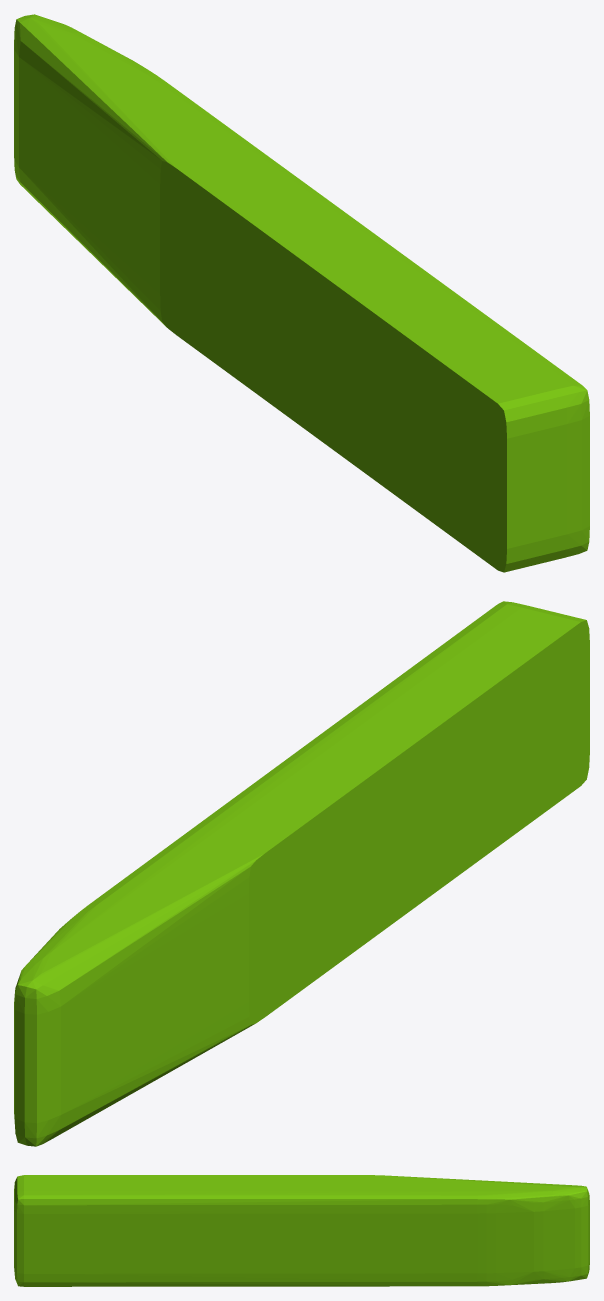
File: right_hip_pitch_link_part_4.obj
3 views of the same model, one above another, from view 1: azimuth 30°, elevation 25°; view 2: azimuth 150°, elevation 25°; view 3: azimuth 270°, elevation 25° (orthographic). The views are drawn at different scales.
Size of the model in its own units: 0.00964 by 0.0173 by 0.0999.
